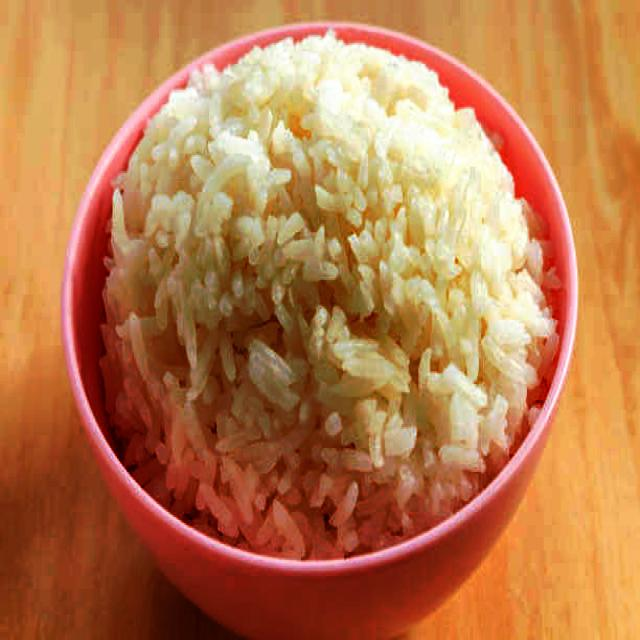rice: (99, 34, 565, 558)
